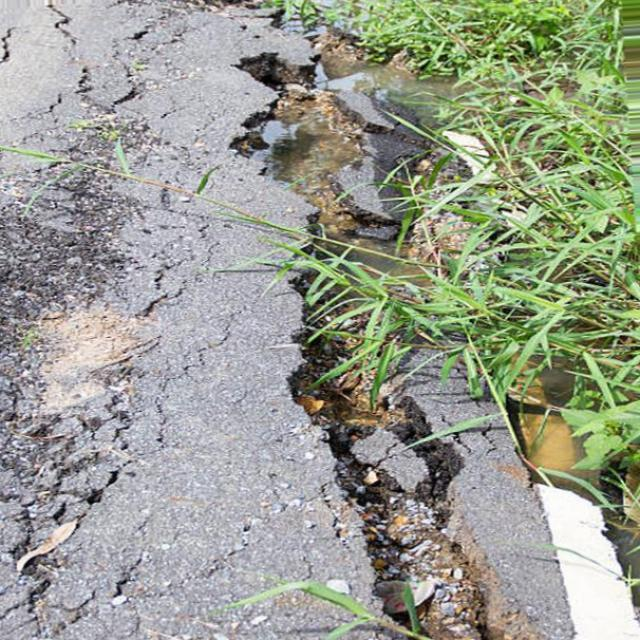Pinggir: (201, 2, 538, 640)
